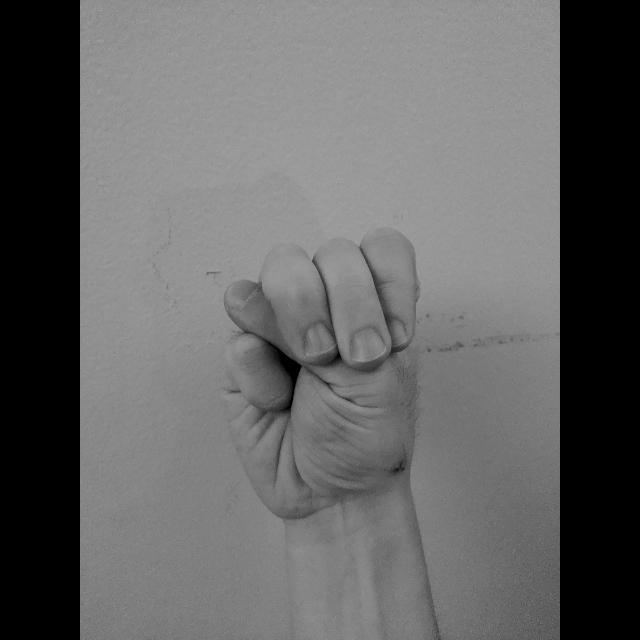M: (215, 221, 428, 523)
